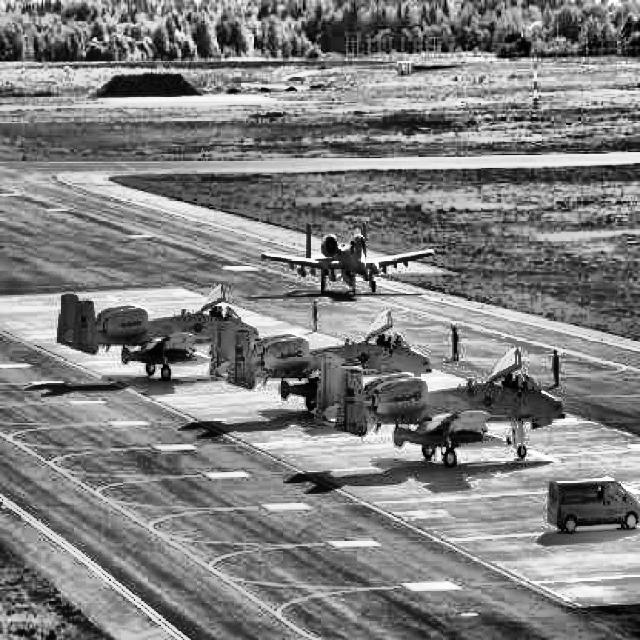A10: (312, 348, 566, 468), (209, 309, 433, 411), (55, 283, 262, 380), (259, 221, 435, 297)
